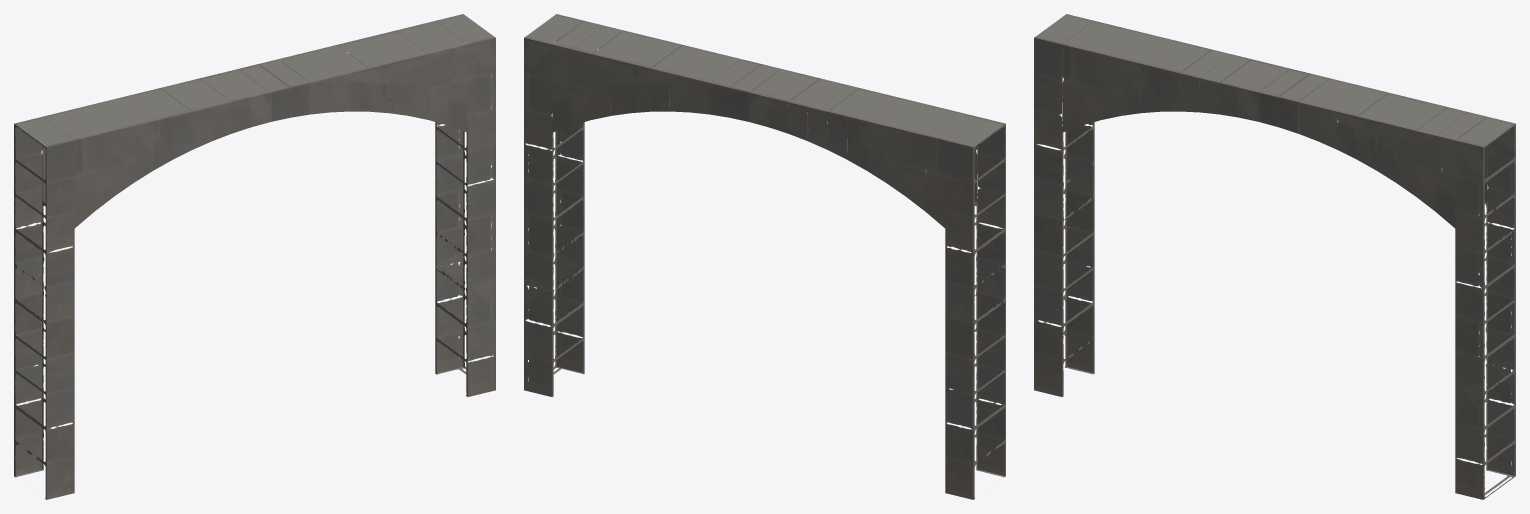
Rendered from stone-open-arch.fbx.
3 views of the same model, side by side, from view 1: azimuth 30°, elevation 25°; view 2: azimuth 150°, elevation 25°; view 3: azimuth 330°, elevation 25° (orthographic).
Visible parts, largest first — view 1: stone-open-arch; view 2: stone-open-arch; view 3: stone-open-arch.
Part boxes in pixels (bbox=[...]): stone-open-arch: bbox=[14, 14, 495, 499]; stone-open-arch: bbox=[524, 14, 1005, 499]; stone-open-arch: bbox=[1034, 14, 1515, 499].
Size of the model in its own units: 400 by 300 by 50.
